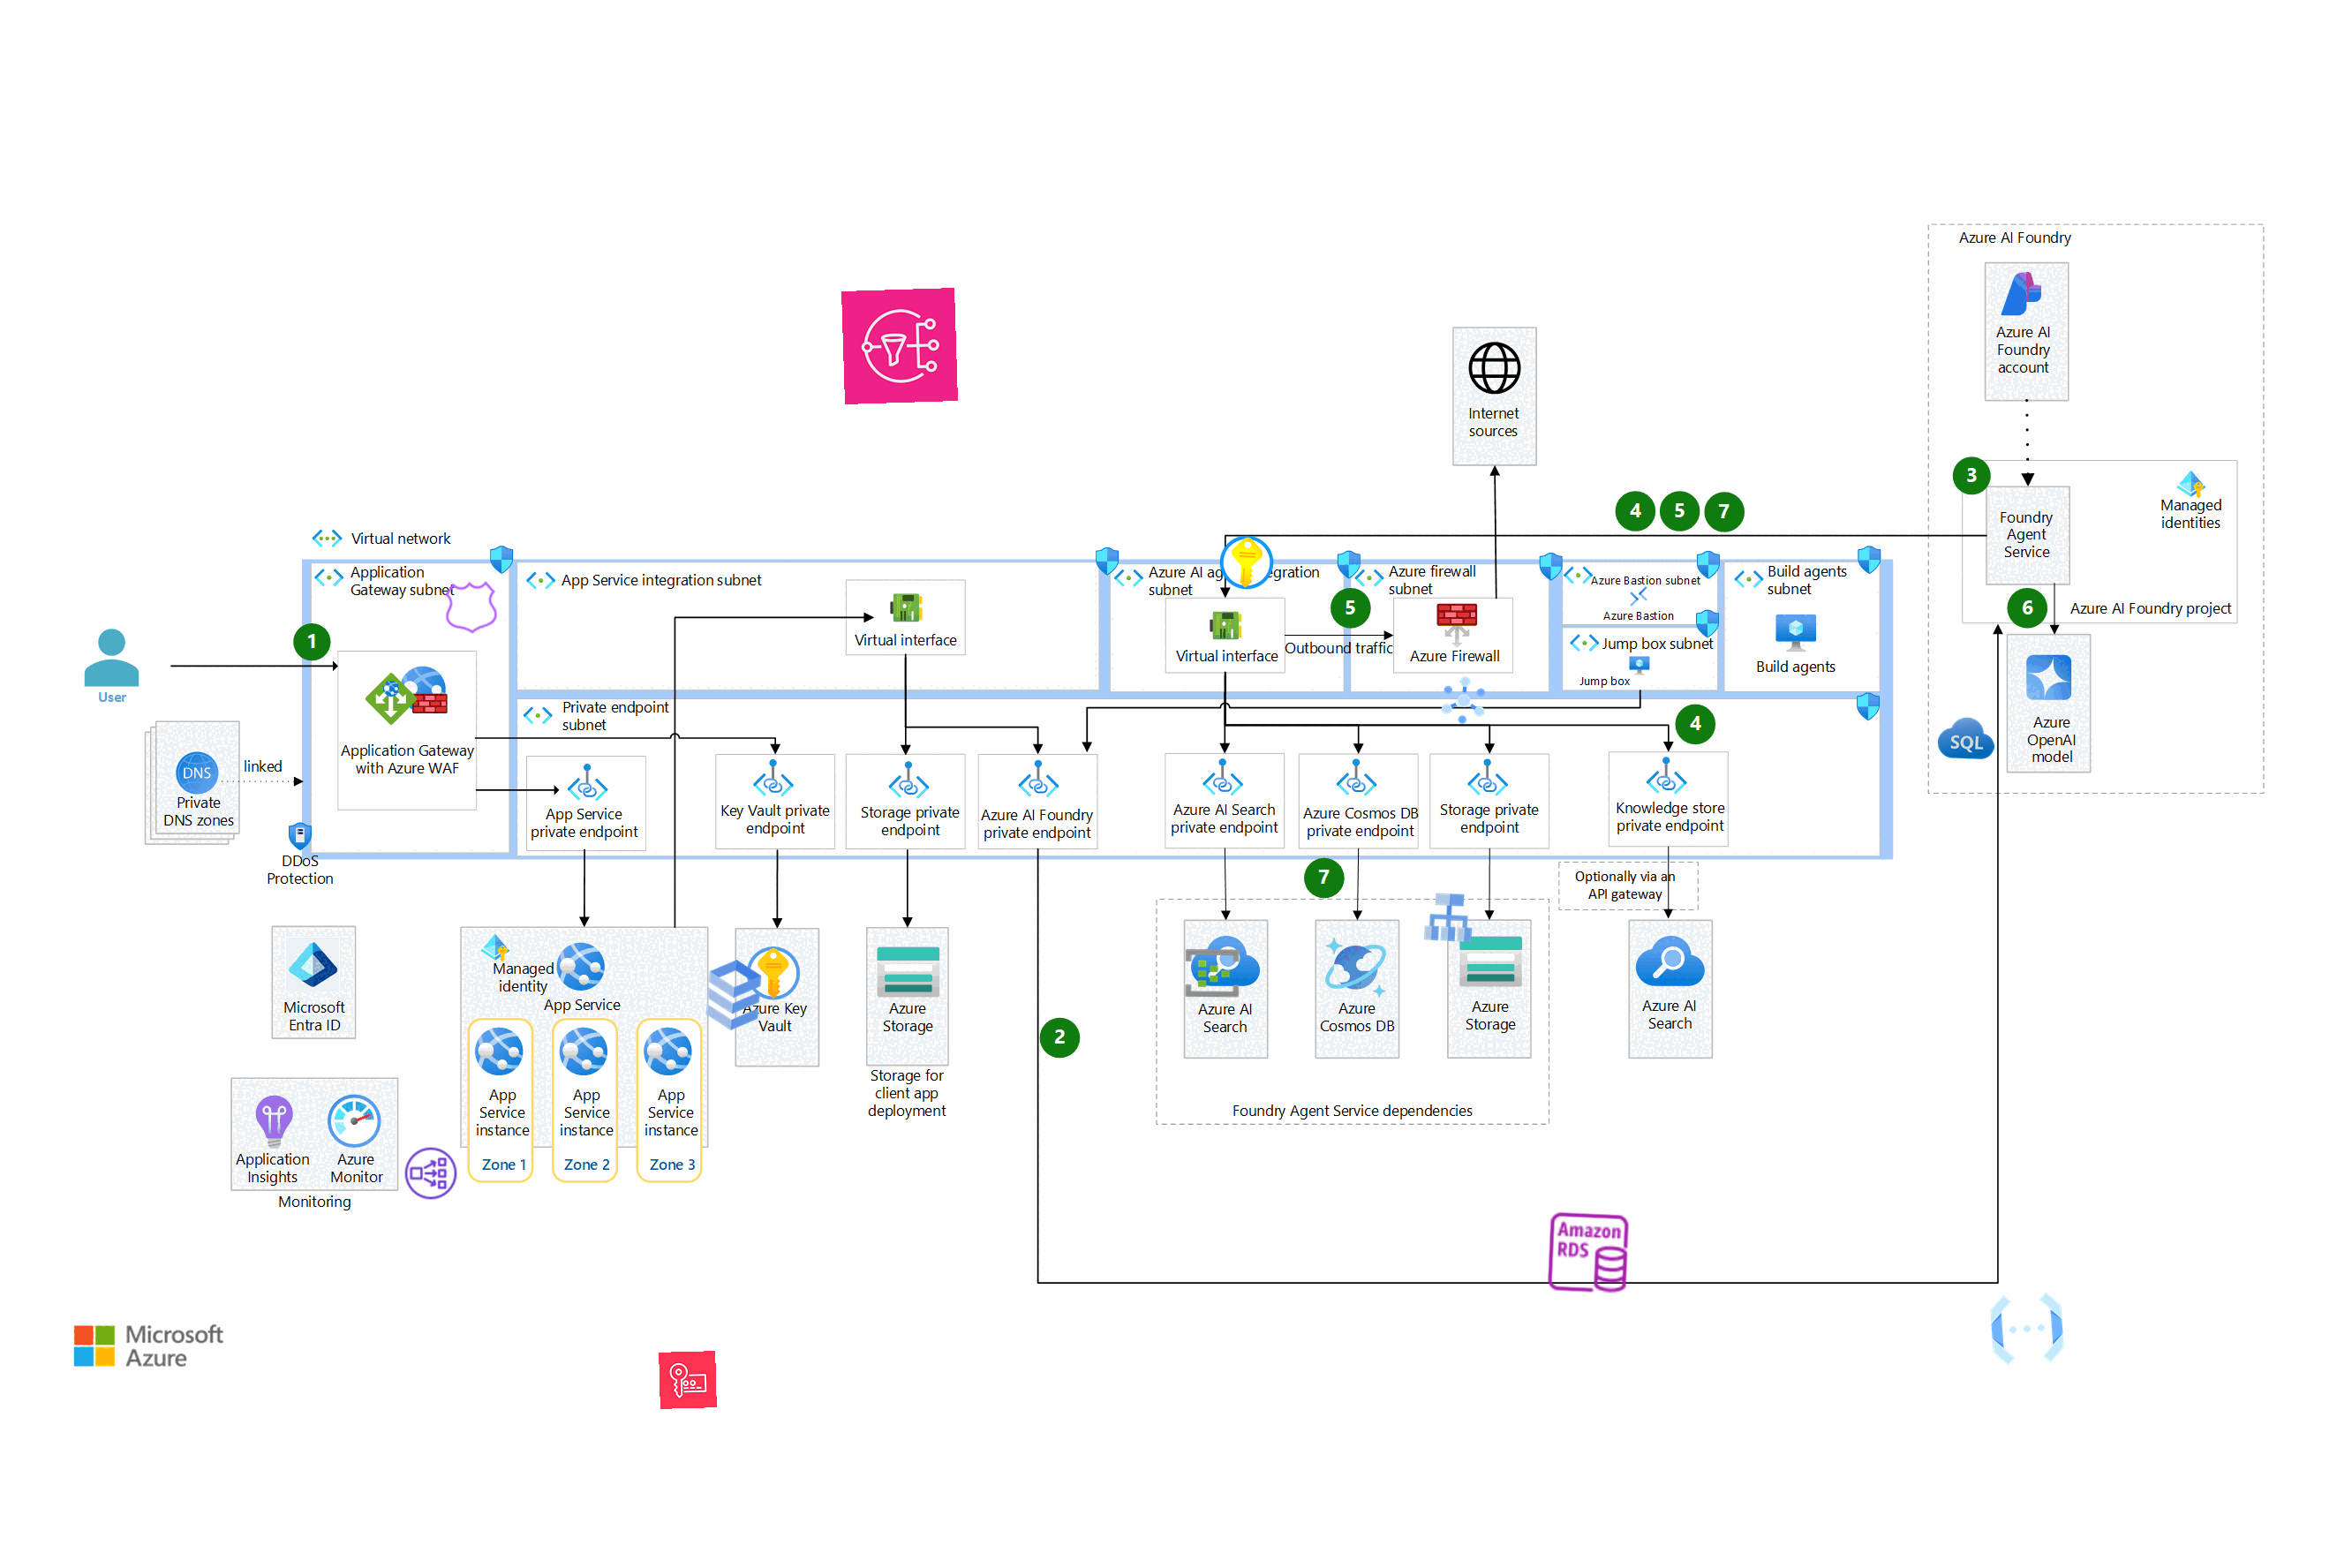aws_amazon_simple_notification_service: (842, 287, 957, 404)
aws_aurora_amazon_rds_instance: (1543, 1207, 1633, 1298)
aws_elastic_load_balancing_network_load_balancer: (402, 1144, 460, 1202)
aws_key_management_service: (658, 1351, 717, 1409)
aws_route_53_hosted_zone: (441, 577, 502, 637)
azure_event_hubs: (1183, 943, 1241, 1003)
azure_key_vaults: (1216, 532, 1277, 593)
azure_sql: (1935, 709, 1997, 768)
gcp_cloud_functions: (1981, 1283, 2074, 1375)
gcp_cloud_load_balancing: (1419, 887, 1479, 947)
gcp_cloud_sql: (688, 949, 779, 1041)
gcp_pubsub: (1433, 668, 1494, 731)
